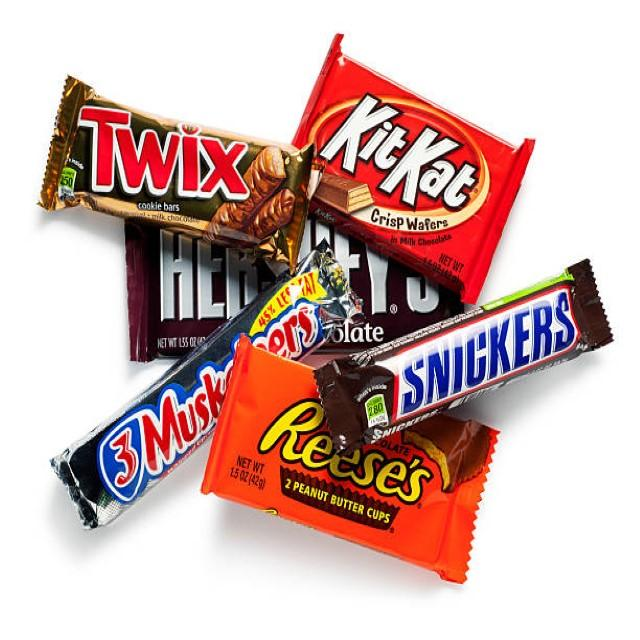kitkat_chocolate: (278, 43, 535, 303)
snickers_chocolate: (322, 268, 600, 448)
